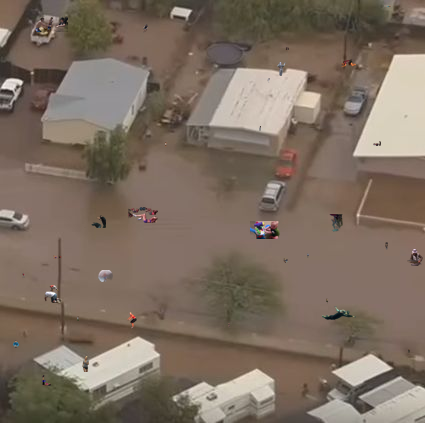Human: (250, 221, 280, 239), (35, 16, 68, 32), (322, 305, 356, 320), (128, 207, 158, 224), (43, 285, 62, 303), (84, 215, 106, 228), (407, 249, 423, 266), (329, 214, 343, 232), (126, 312, 137, 329), (98, 270, 113, 282), (277, 62, 286, 76), (341, 59, 356, 67), (82, 356, 89, 372), (42, 375, 51, 386), (22, 272, 30, 279), (13, 340, 19, 348), (143, 24, 148, 33), (373, 141, 381, 146), (53, 255, 62, 259), (283, 258, 288, 263), (385, 242, 388, 250), (284, 47, 289, 51), (267, 78, 270, 83), (326, 298, 328, 304), (307, 253, 309, 258), (228, 323, 230, 328), (77, 316, 79, 321), (165, 142, 167, 147), (386, 5, 391, 7), (259, 126, 261, 131), (408, 348, 410, 353)
